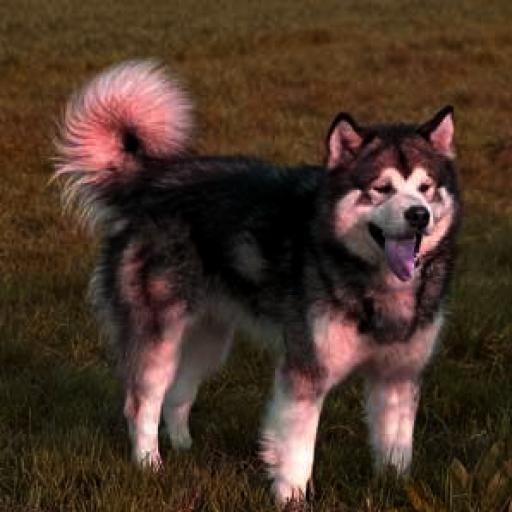dog_face: (320, 99, 475, 281)
